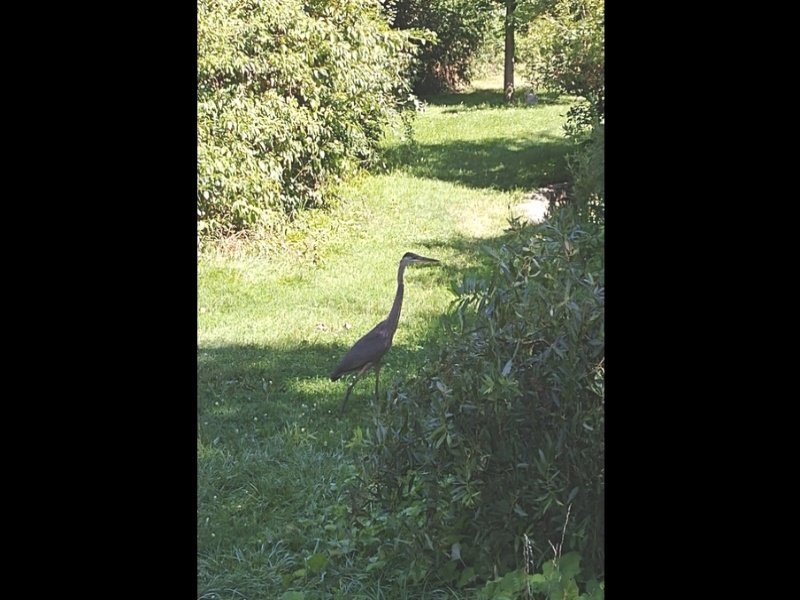heron: (333, 249, 445, 410)
